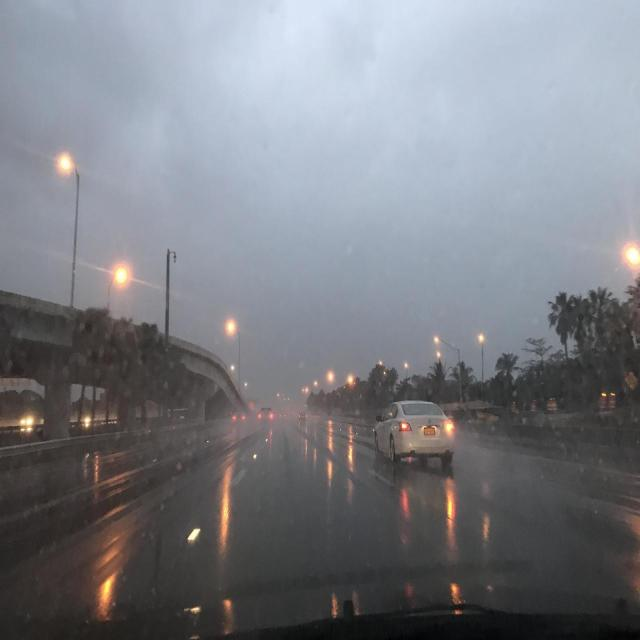car: (370, 401, 460, 467), (256, 404, 275, 422), (230, 409, 248, 425)
